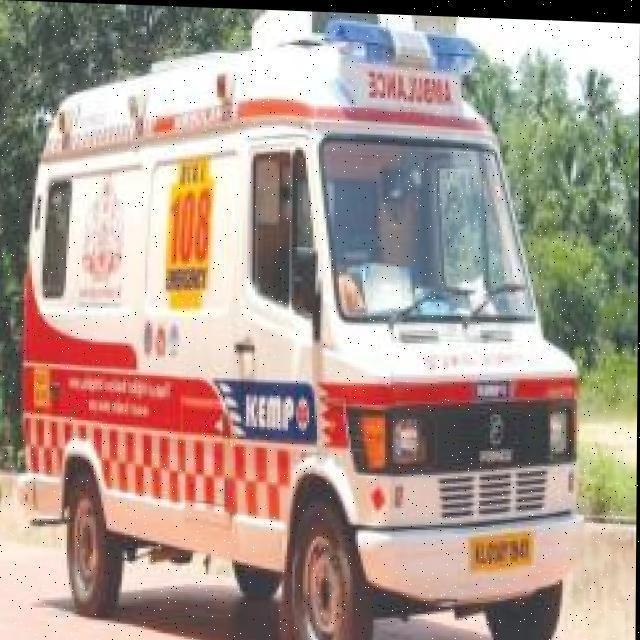Ambulance: (6, 0, 595, 640), (0, 485, 634, 640)
